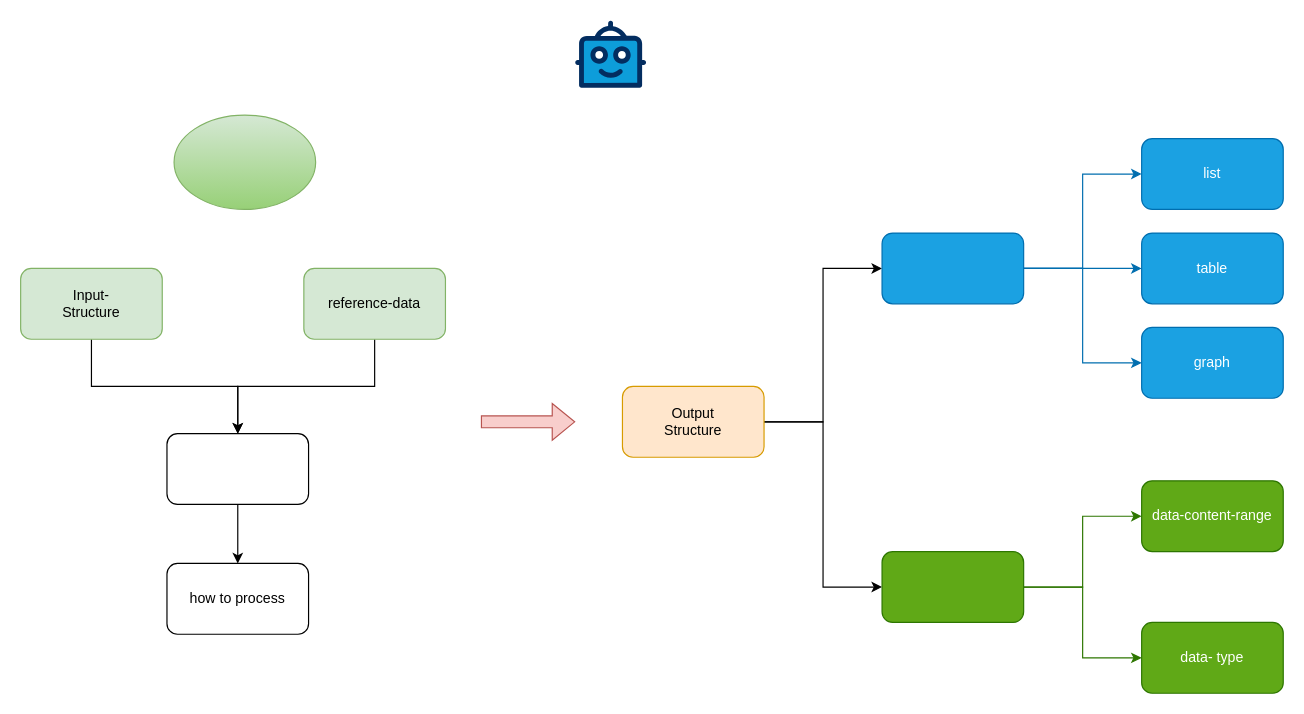
Image size: 1304x714. Some labels were removed from this diagram. The centre of each missing label's shape, as x and y in pixels:
content: (952,586)
form: (952,268)
GPT: (610,53)
info-search: (237,468)
input: (244,161)
